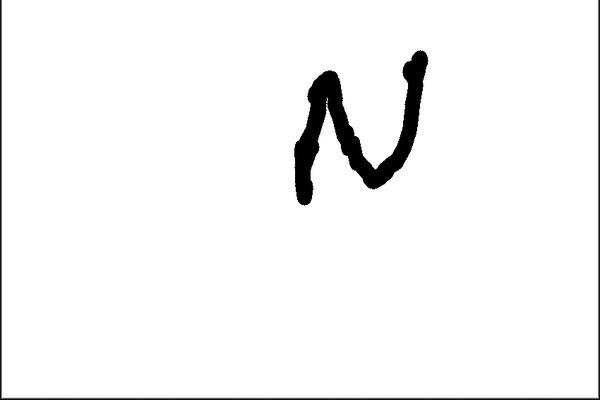N: (288, 48, 431, 208)
